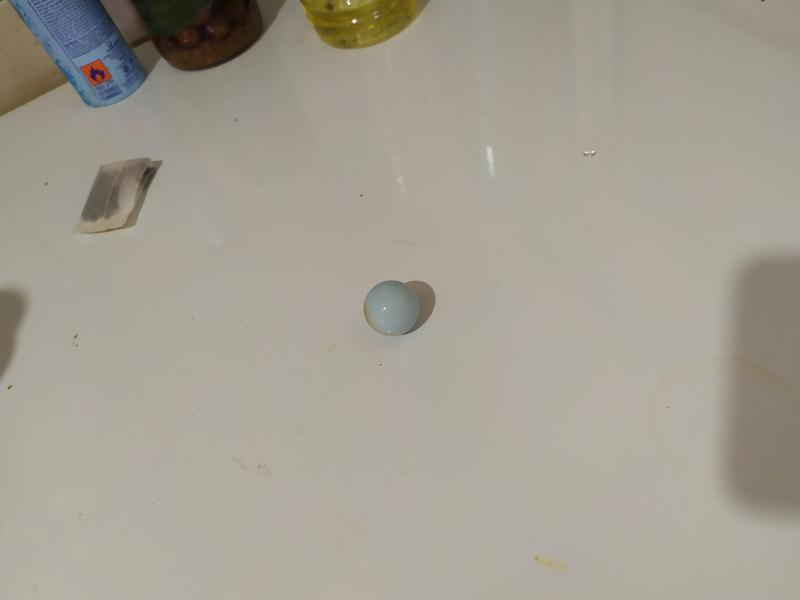Warning: (361, 278, 423, 338)
